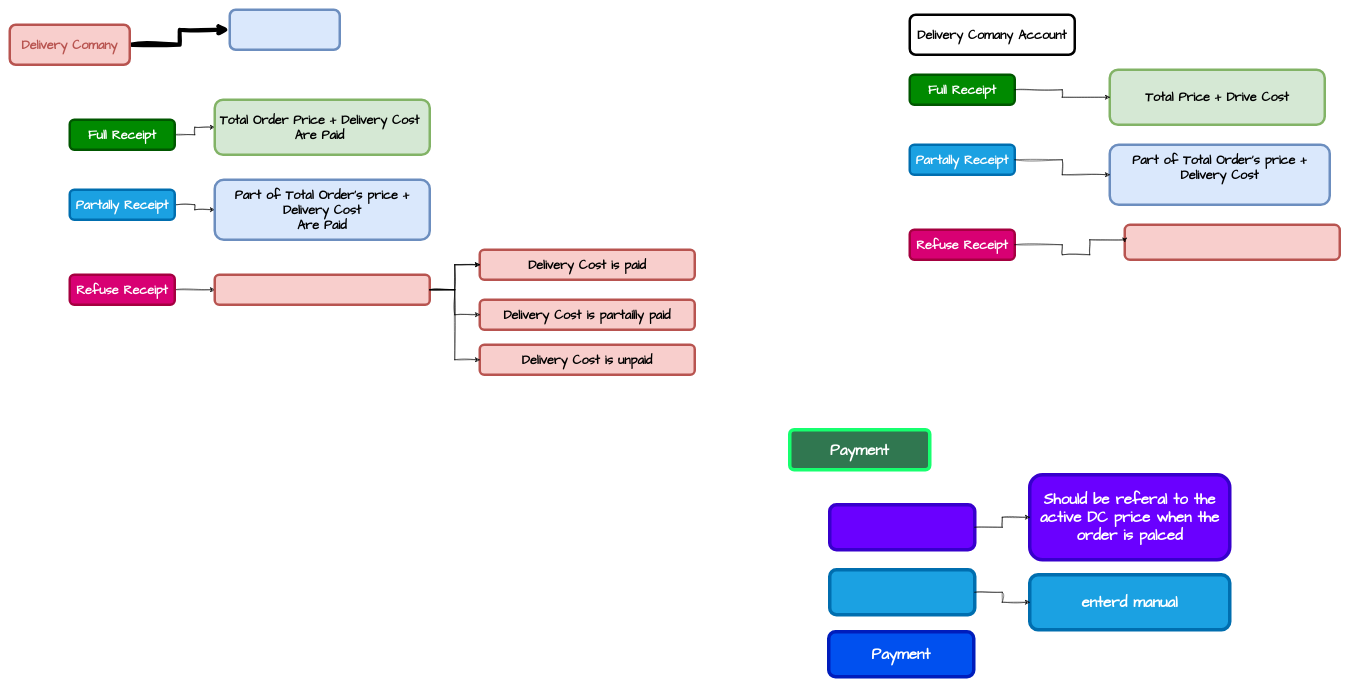
Some shapes in this 1350 by 687 pixel diagram are drawn without their labels. The box of each missing label's shape, as (x1, y1, x2, y2) in pixels:
Cutomer: (228, 8, 341, 51)
Delivery Cost: (828, 503, 976, 551)
Delivery Cost that informed by DeliveryCompany: (1123, 223, 1341, 261)
Order Total Price: (828, 568, 976, 616)
Order's Price is unpaid: (213, 273, 431, 306)
